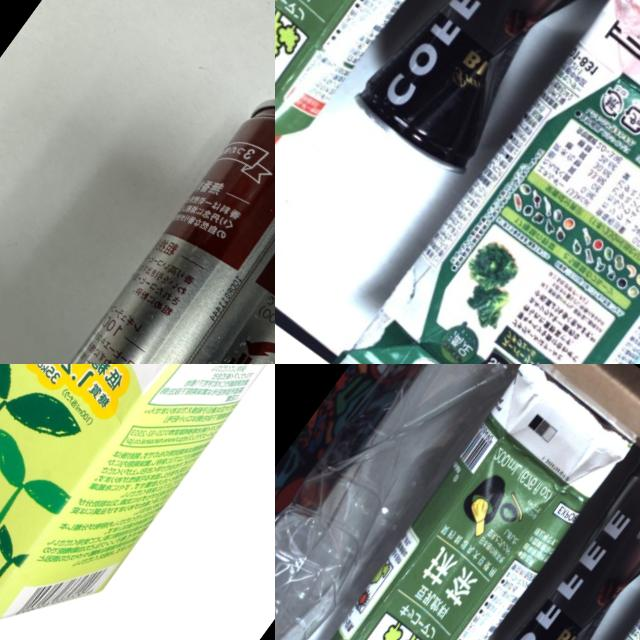Aluminium Foil: (337, 0, 640, 364), (275, 364, 635, 640), (0, 364, 275, 634), (275, 0, 511, 211), (378, 516, 640, 640)
Can: (23, 62, 275, 364), (347, 0, 621, 189), (447, 452, 640, 640)
Transparent Plastic Bottle: (275, 364, 524, 640)
